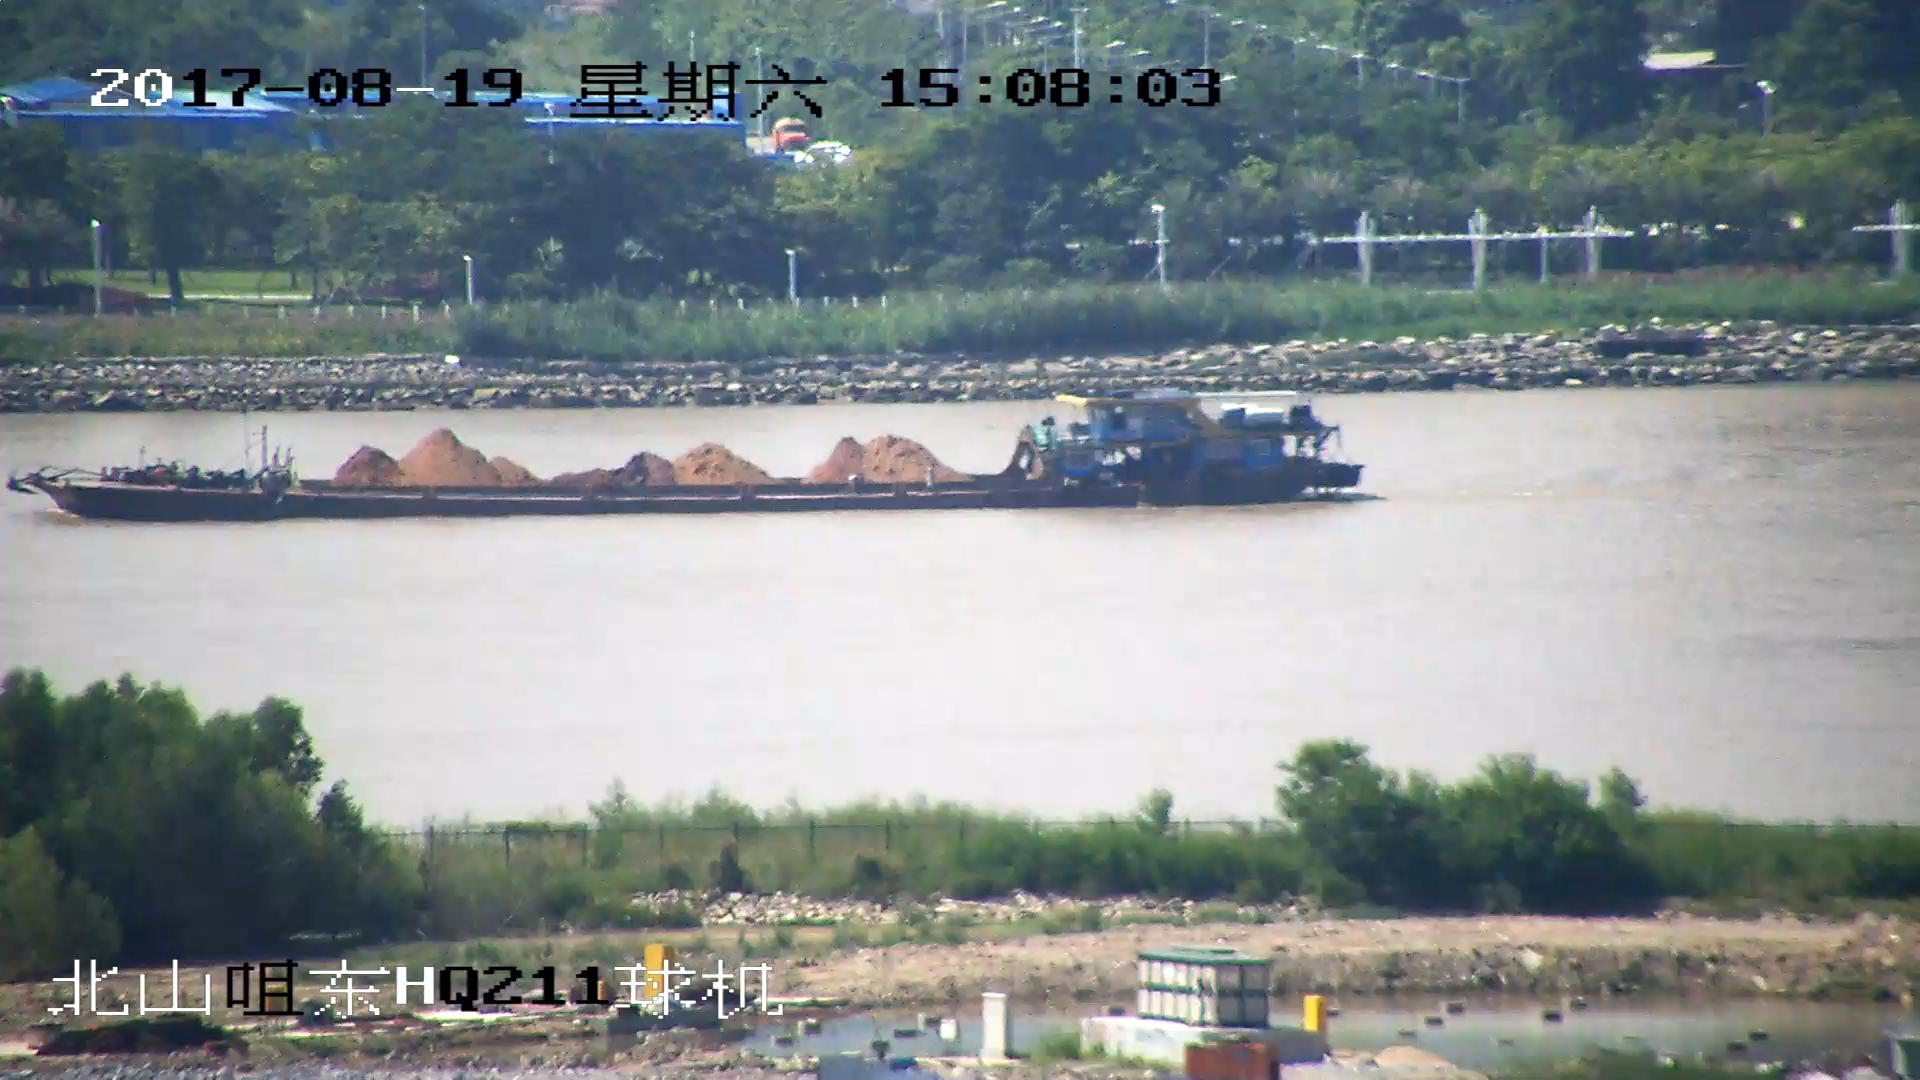ore carrier: (9, 382, 1362, 522)
